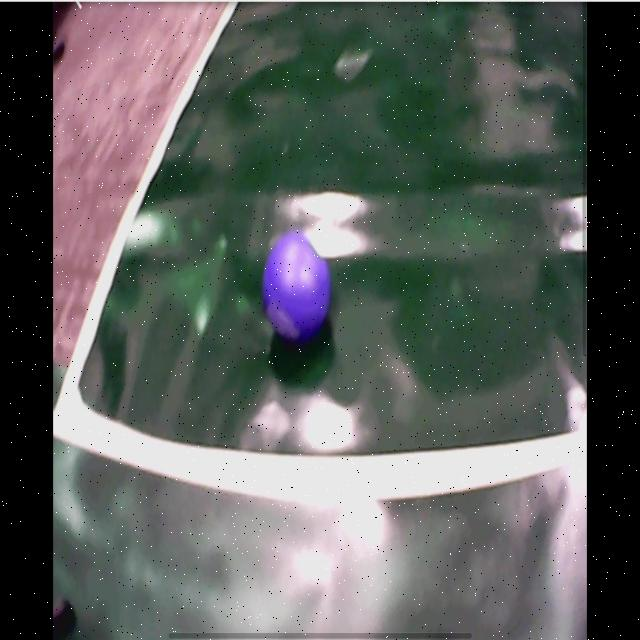ball: (261, 234, 331, 339)
